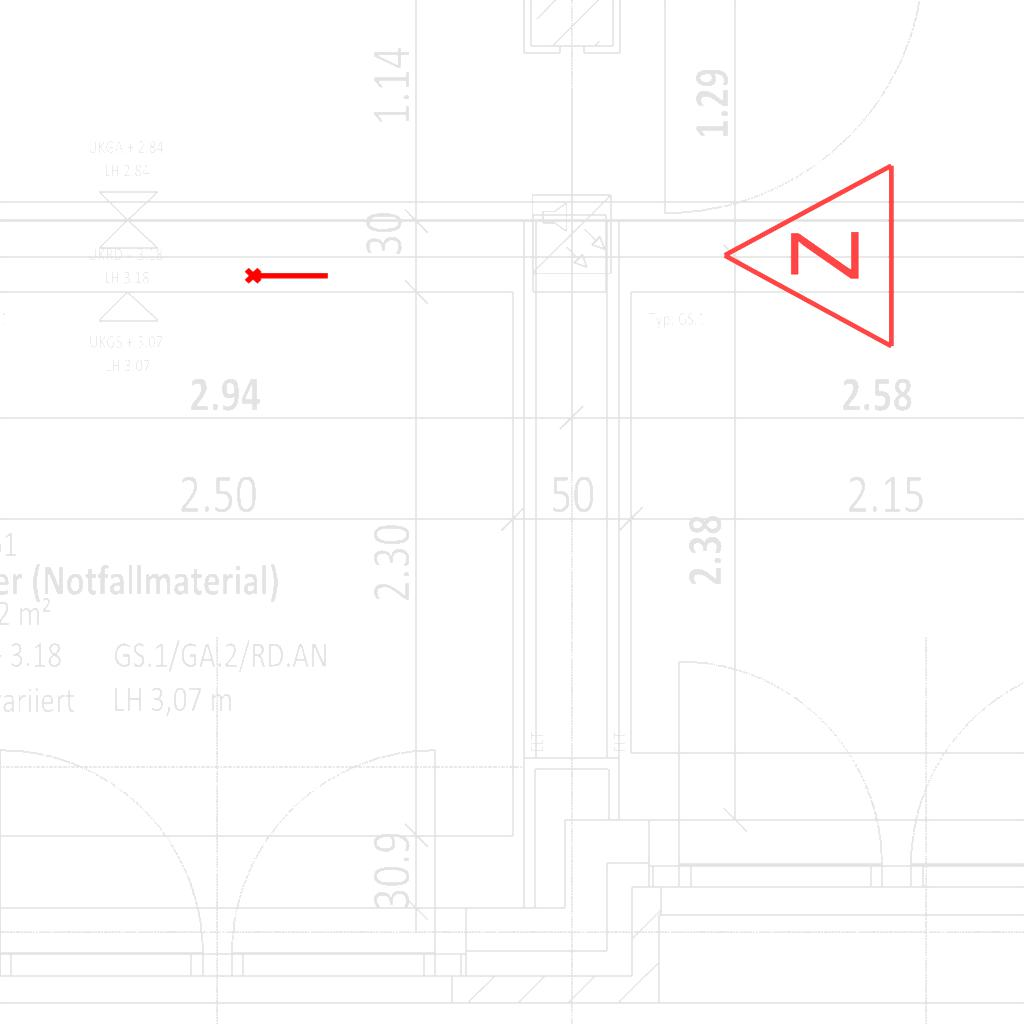ASR_Ansaugoeffnung: (243, 263, 331, 286)
Zimmersignalleuchte: (709, 160, 909, 356)
